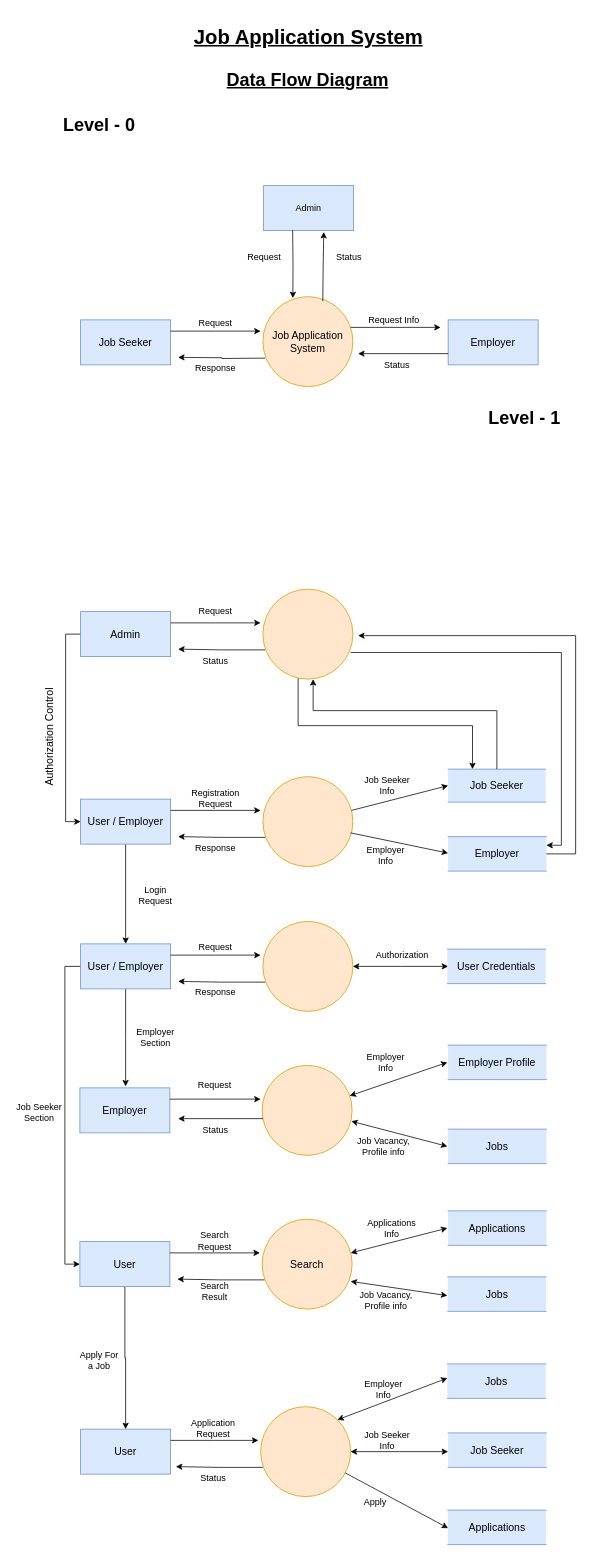
This 595x1558 diagram has some shape labels left out. Here are the shapes that lost their labels. From the top down, the centre of each, then its label:
[307,633]: Manage Users & Jobs
[307,821]: User Registration
[307,966]: Login
[306,1110]: Manage
[305,1451]: Apply To Jobs
